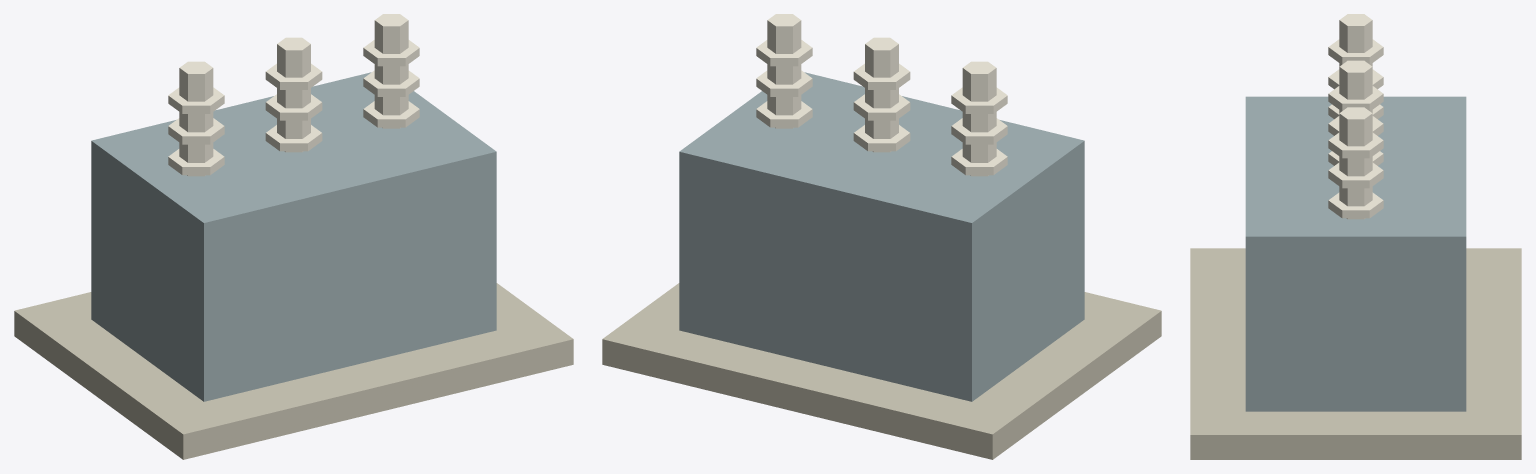
3 renders of one model, left to right at view 1: azimuth 30°, elevation 25°; view 2: azimuth 150°, elevation 25°; view 3: azimuth 270°, elevation 25°, orthographic. The views are drawn at different scales.
Bounding box in the file's own units: 8 × 6 × 6.
